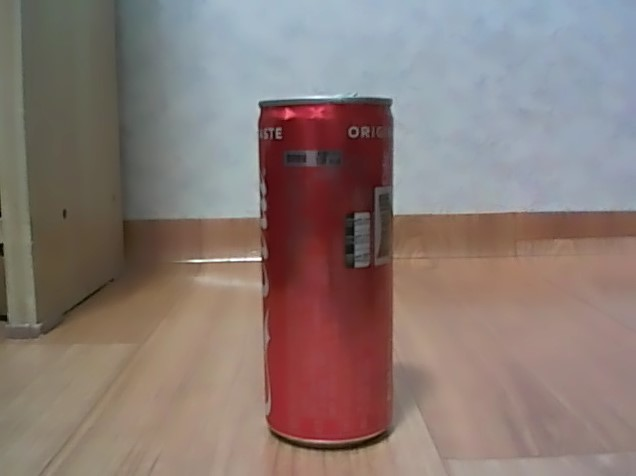Can: (248, 84, 401, 454)
